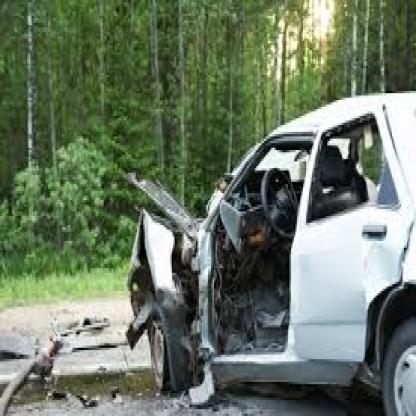accident: (119, 96, 416, 416)
